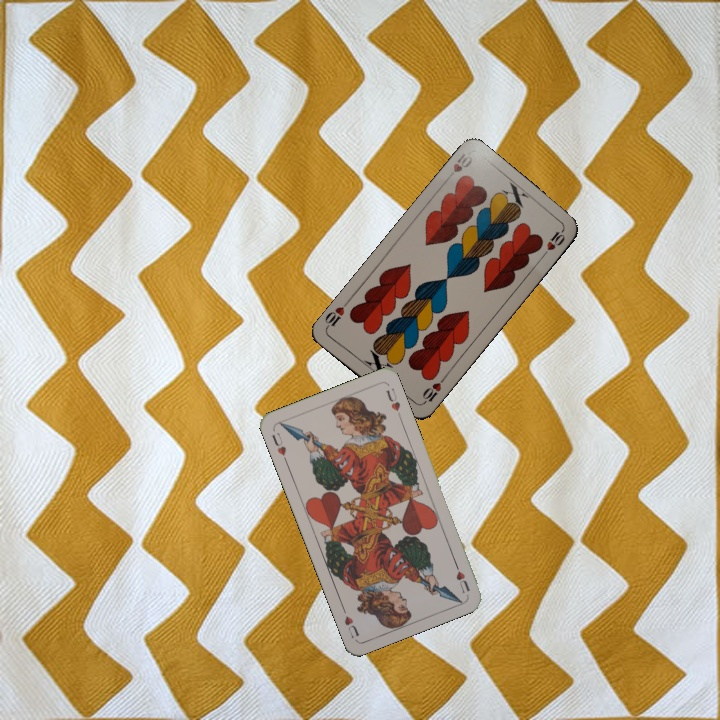H10: (441, 147, 475, 184), (417, 374, 448, 408)
HU: (450, 558, 472, 596), (268, 428, 290, 465)
